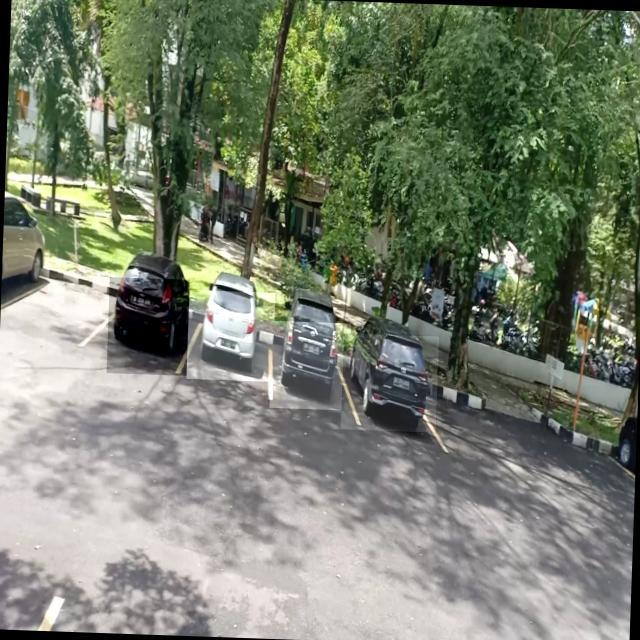occupied: (340, 332, 439, 432), (187, 289, 276, 382), (106, 277, 190, 375), (269, 320, 351, 410)
